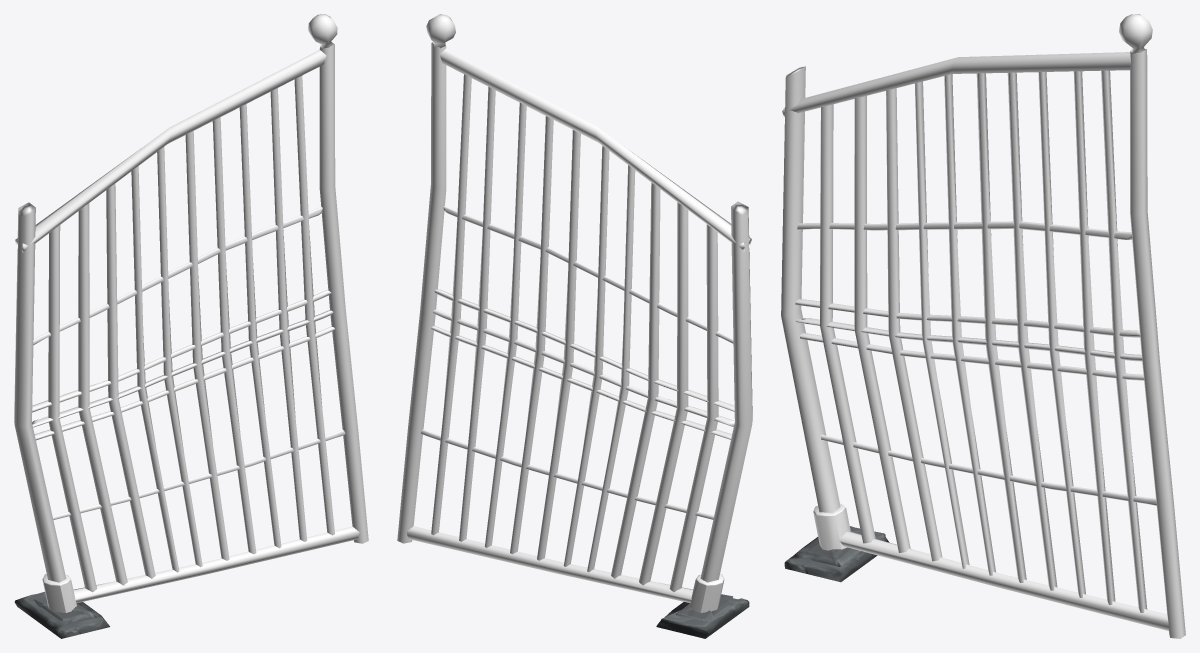
Rendered from Gates_Meshes.fbx.
3 views of the same model, side by side, from view 1: azimuth 30°, elevation 25°; view 2: azimuth 150°, elevation 25°; view 3: azimuth 330°, elevation 25° (orthographic). The views are drawn at different scales.
Parts seen in each view (by area): view 1: Fence_Gate, Stone_Path_2, Stone_Path_1; view 2: Fence_Gate, Stone_Path_2; view 3: Fence_Gate, Stone_Path_2, Stone_Path_1.
Part boxes in pixels (x1,y1,x2,y2): Fence_Gate: (14,14,368,612); Stone_Path_2: (14,591,109,638); Stone_Path_1: (34,596,96,623); Fence_Gate: (397,14,752,612); Stone_Path_2: (656,594,749,638); Fence_Gate: (781,14,1185,638); Stone_Path_2: (784,526,889,582); Stone_Path_1: (805,542,860,566).
Size of the model in its own units: 216 by 315 by 46.95.
